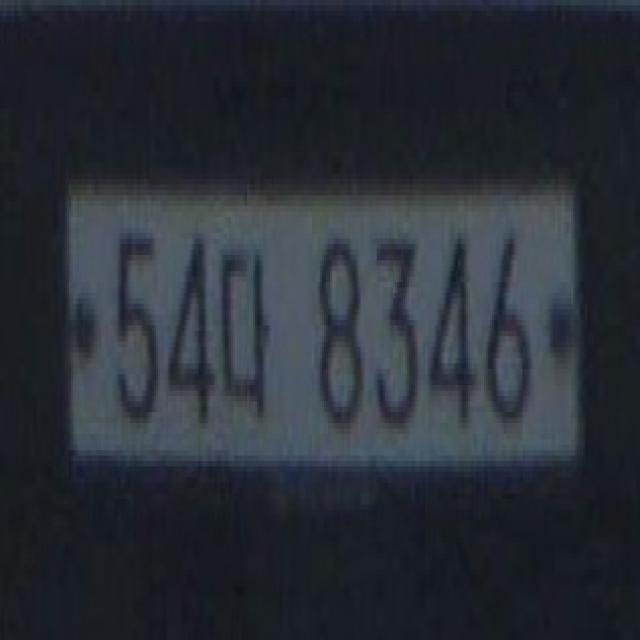3: (369, 212, 425, 444)
4: (427, 200, 488, 467), (164, 206, 221, 434)
5: (103, 190, 168, 434)
6: (478, 206, 539, 456)
8: (308, 206, 375, 450)
da: (216, 228, 284, 423)
license_plate: (59, 174, 595, 477)
